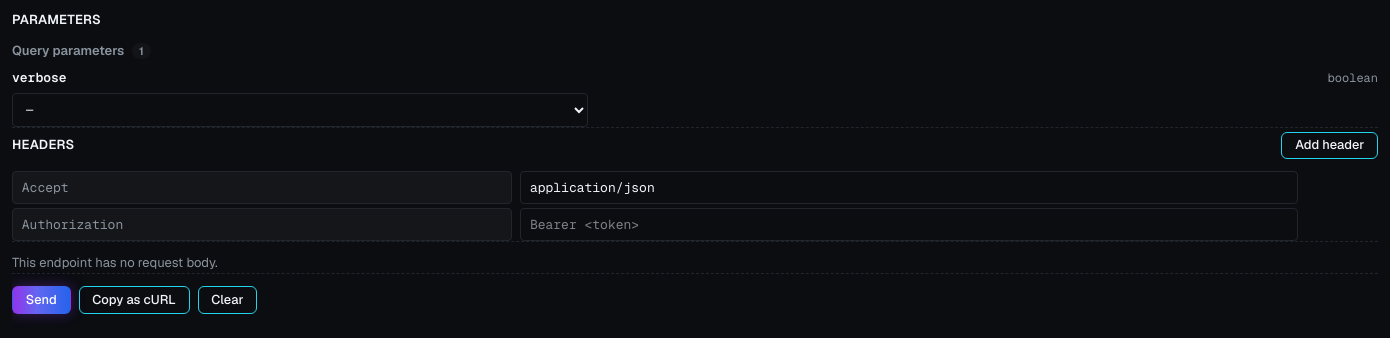
Test case: TryItOutForm › copies the current request as a cURL command
Select "true" in the dropdown labelled "verbose". click: [300, 110]
box: [12,93,588,127]
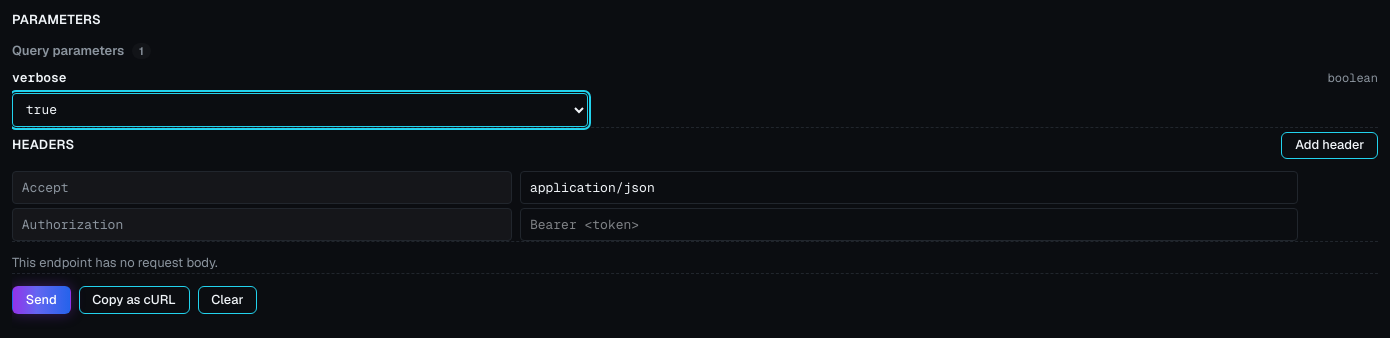
Type "Bearer secret" into the field named "Authorization Value". click: [909, 225]
box: [520,208,1298,241]
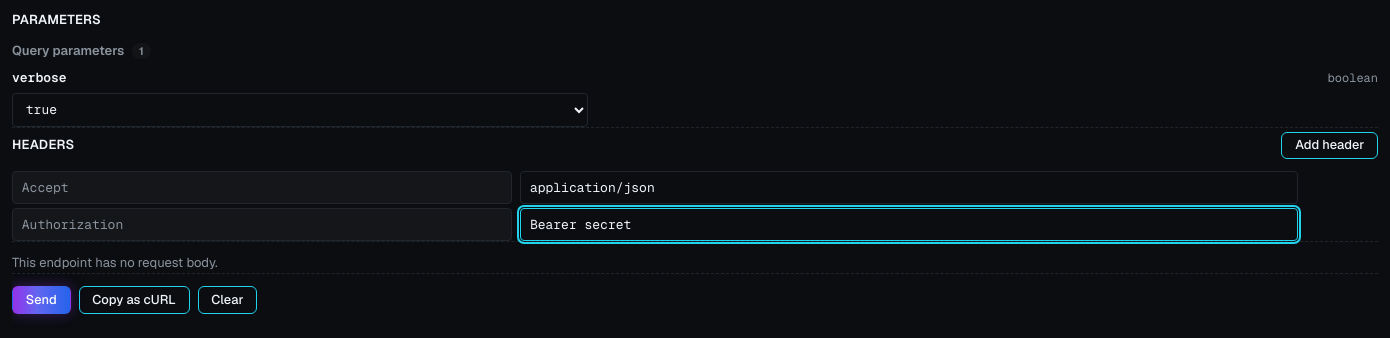
Click the button "Copy as cURL". click: [134, 300]
box: [78,286,190,314]
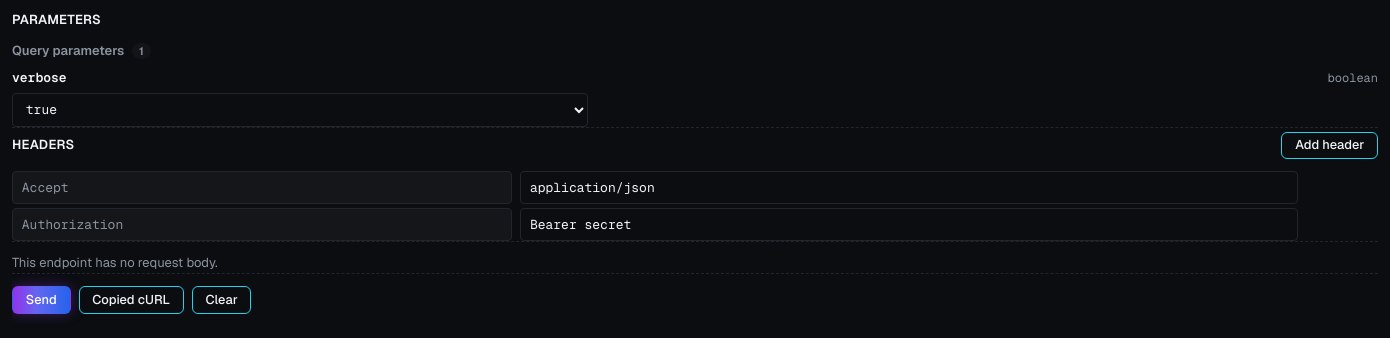
Check: the button "Copied cURL" is shown, box [78,286,184,314]
